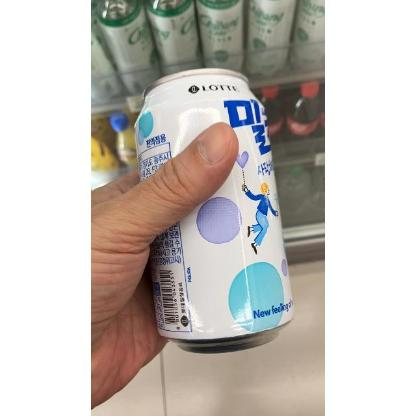Can: (134, 66, 298, 356)
